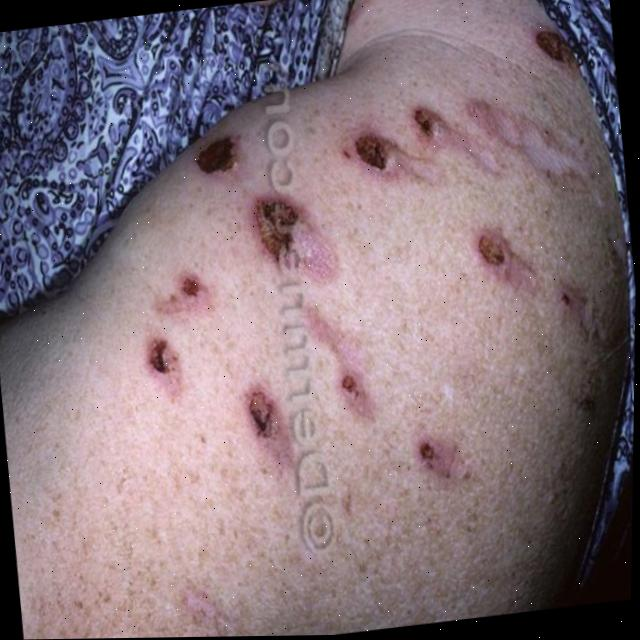Eczema: (100, 39, 635, 503)
